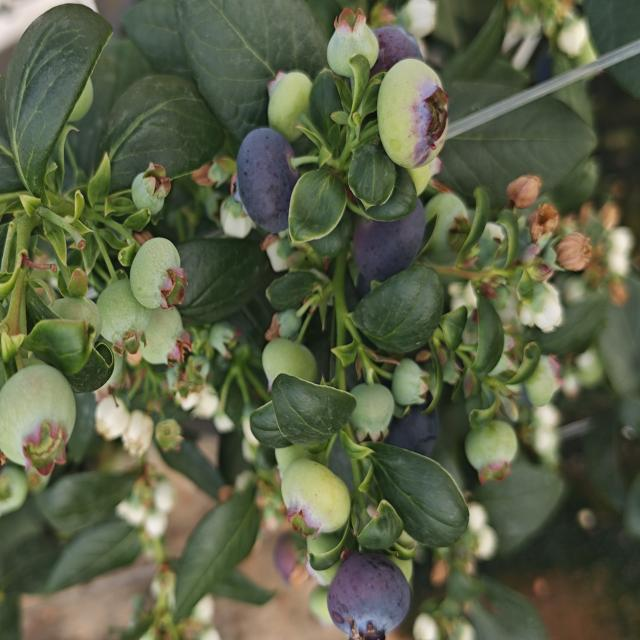ripe: (324, 548, 414, 638), (350, 194, 428, 292), (232, 125, 300, 237), (380, 383, 443, 464), (366, 17, 432, 83)
